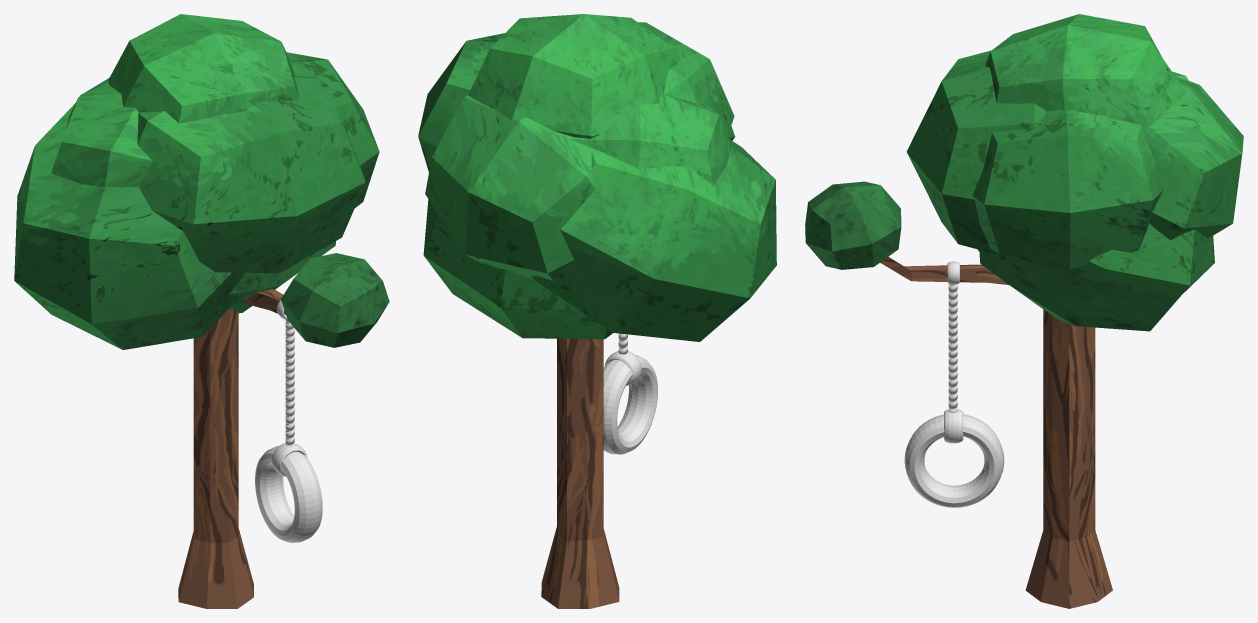
Rendered from arvrinha_co_pneu.fbx.
The picture shows the model from 3 angles, left to right: view 1: azimuth 30°, elevation 25°; view 2: azimuth 150°, elevation 25°; view 3: azimuth 270°, elevation 25°; orthographic projection. The views are drawn at different scales.
Parts seen in each view (by area): view 1: Cube.001, Cube.008, Cube, Cube.004, Cube.005, Cube.003, Torus, Cube.002, Cube.007, Plane.001; view 2: Cube.008, Cube.006, Cube.004, Cube, Cube.007, Cube.003, Torus, Cube.002, Cube.001, Torus.002; view 3: Cube.002, Cube, Cube.004, Cube.007, Cube.001, Cube.006, Cube.005, Torus, Plane.001, Torus.002.
Boxes of the visible parts, <box> form: Cube.001: <box>137,75,365,273</box>; Cube.008: <box>14,92,244,349</box>; Cube: <box>178,289,285,608</box>; Cube.004: <box>108,14,299,123</box>; Cube.005: <box>281,253,389,347</box>; Cube.003: <box>51,83,152,187</box>; Torus: <box>255,445,322,542</box>; Cube.002: <box>286,52,379,207</box>; Cube.007: <box>229,241,335,313</box>; Plane.001: <box>285,320,294,446</box>; Cube.008: <box>531,138,776,341</box>; Cube.006: <box>425,95,606,280</box>; Cube.004: <box>468,14,678,138</box>; Cube: <box>541,338,619,608</box>; Cube.007: <box>423,199,612,339</box>; Cube.003: <box>570,93,731,186</box>; Torus: <box>603,354,657,454</box>; Cube.002: <box>418,33,504,171</box>; Cube.001: <box>638,22,734,136</box>; Torus.002: <box>605,351,641,385</box>; Cube.002: <box>972,109,1163,269</box>; Cube: <box>880,256,1112,608</box>; Cube.004: <box>985,14,1186,131</box>; Cube.007: <box>979,224,1214,331</box>; Cube.001: <box>906,50,1046,256</box>; Cube.006: <box>1144,76,1243,240</box>; Cube.005: <box>805,181,901,269</box>; Torus: <box>904,414,1004,507</box>; Plane.001: <box>948,284,957,412</box>; Torus.002: <box>944,409,963,443</box>.
Size of the model in its own units: 2397 by 3876 by 2731.
